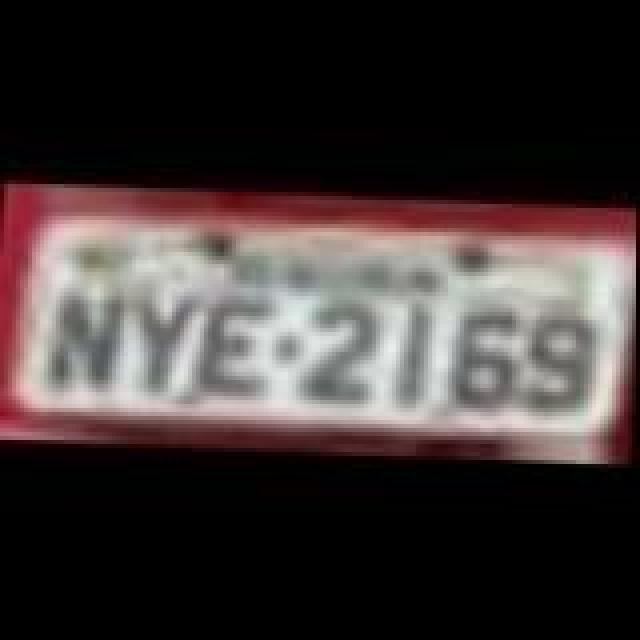1: (396, 300, 444, 400)
2: (300, 290, 380, 402)
6: (448, 296, 520, 408)
9: (524, 308, 592, 420)
E: (198, 294, 274, 402)
N: (46, 280, 130, 392)
Y: (124, 290, 200, 402)
